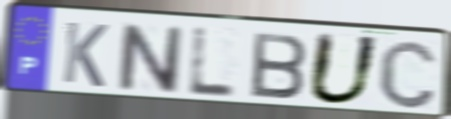B: (249, 30, 310, 101)
C: (376, 37, 440, 111)
K: (59, 19, 110, 90)
L: (185, 25, 239, 100)
N: (117, 21, 184, 96)
U: (304, 30, 384, 107)
